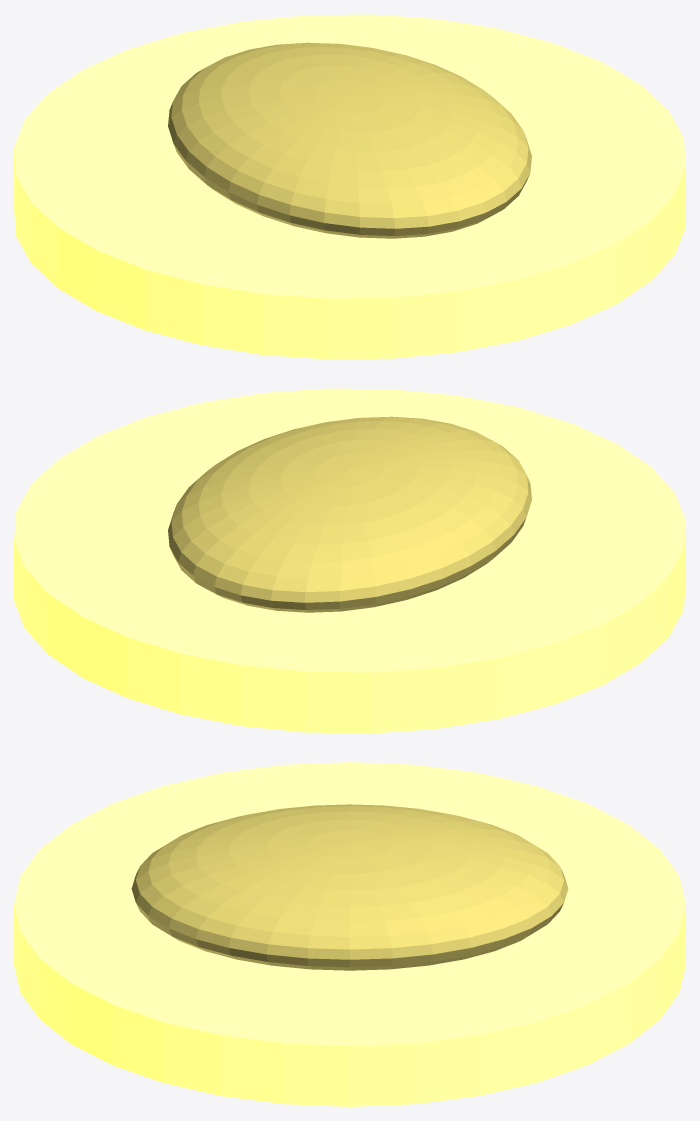
Rendered from CornCoin.glb.
3 views of the same model, one above another, from view 1: azimuth 30°, elevation 25°; view 2: azimuth 150°, elevation 25°; view 3: azimuth 270°, elevation 25° (orthographic).
Visible parts, largest first — view 1: CornCoin, CornCoin_Emboss; view 2: CornCoin, CornCoin_Emboss; view 3: CornCoin, CornCoin_Emboss.
Boxes of the visible parts, x1=… form: CornCoin: x1=14, y1=14, x2=685, y2=359; CornCoin_Emboss: x1=168, y1=42, x2=531, y2=238; CornCoin: x1=14, y1=388, x2=685, y2=733; CornCoin_Emboss: x1=168, y1=416, x2=531, y2=612; CornCoin: x1=14, y1=762, x2=685, y2=1106; CornCoin_Emboss: x1=131, y1=804, x2=568, y2=970.
Size of the model in its own units: 0.4 by 0.08 by 0.4.
